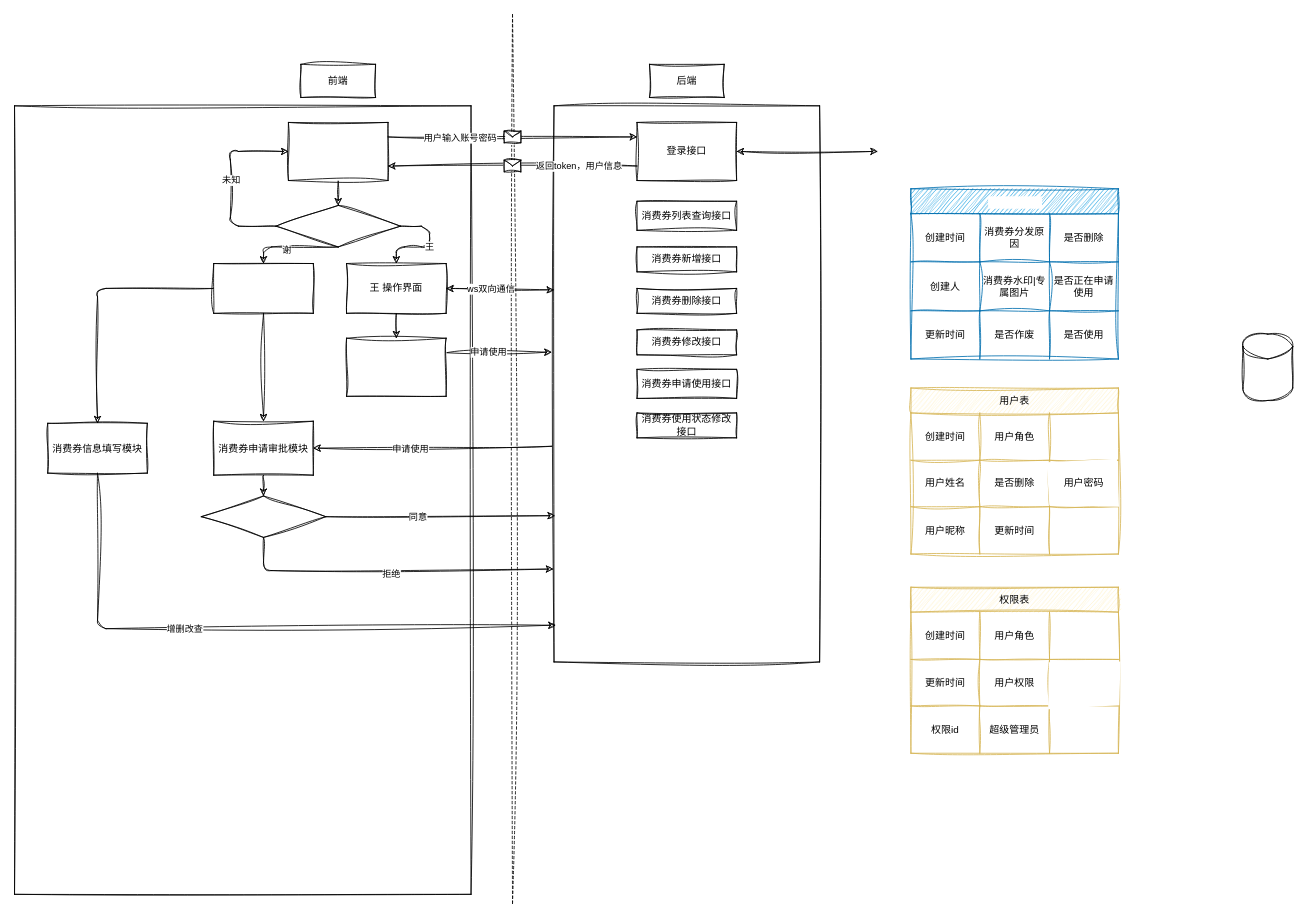
Some shapes in this 1307 by 919 pixel diagram are drawn without their labels. The shapes that lost their labels are listed below. From the top down, each one's centre as x and y in pixels, then its label:
pixel 338 151: 登录模块
pixel 337 226: 当前用户是谁？
pixel 263 288: 谢 操作界面
pixel 396 366: 消费券使用界面
pixel 1267 366: db
pixel 263 516: 是否同意使用
